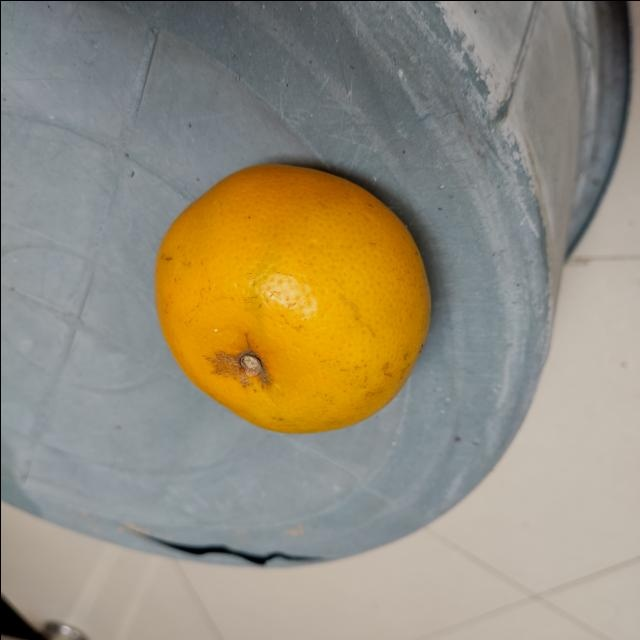agrume: (150, 154, 438, 439)
